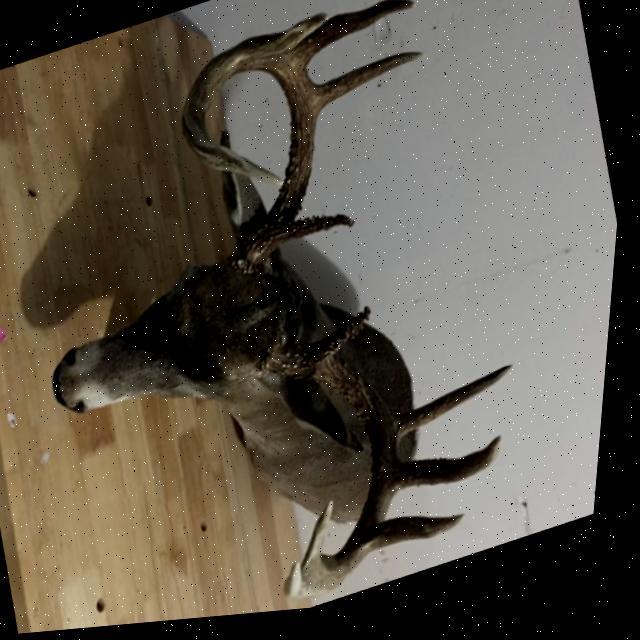L-G1: (311, 310, 378, 364)
L-G2: (400, 373, 520, 450)
L-G3: (406, 443, 509, 499)
L-G4: (380, 521, 474, 558)
R-F: (274, 347, 406, 597), (183, 38, 317, 275)
R-G1: (283, 218, 359, 250)
R-G2: (313, 57, 425, 119)
R-G3: (295, 4, 415, 69)
